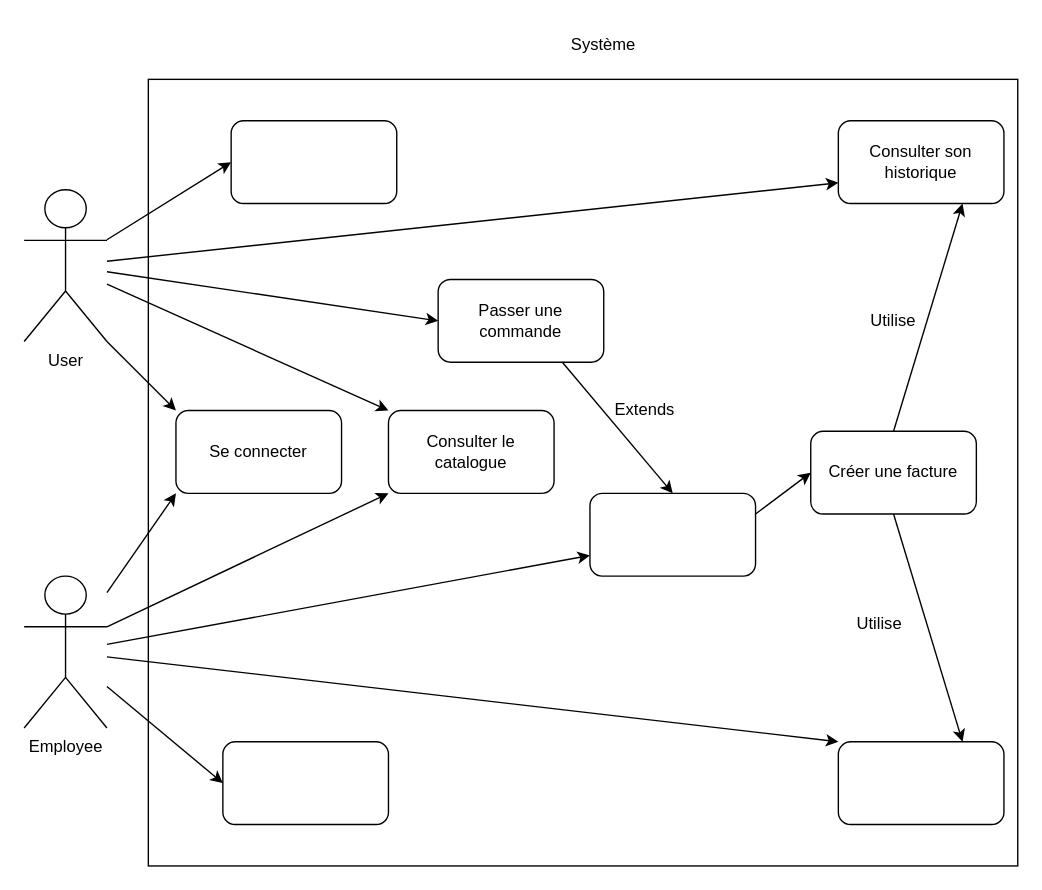
The diagram is 1042 pixels wide and 890 high, and some of its shapes have lost their labels. The centre of each missing label's shape, as x and y in pixels:
Confirmer une commande: the point at 672,534
Vérifier les historiques des utilisateurs: the point at 920,782
Vérifier les profils des utilisateurs: the point at 304,782
Vérifier son profil: the point at 313,161
